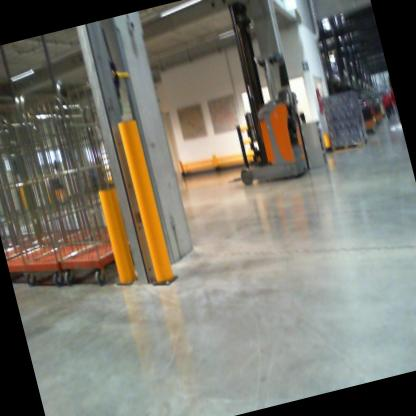forklift: (189, 0, 319, 197)
